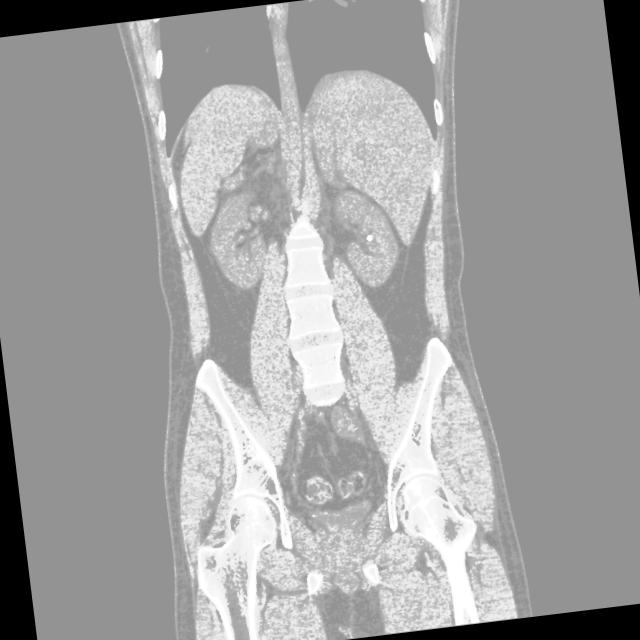STONE: (189, 172, 406, 328)
